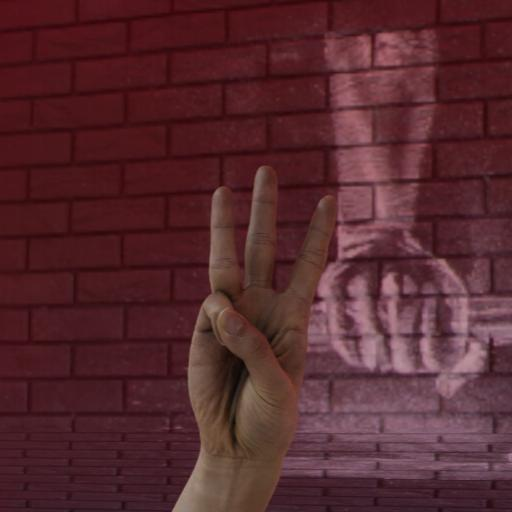W: (176, 159, 344, 466)
